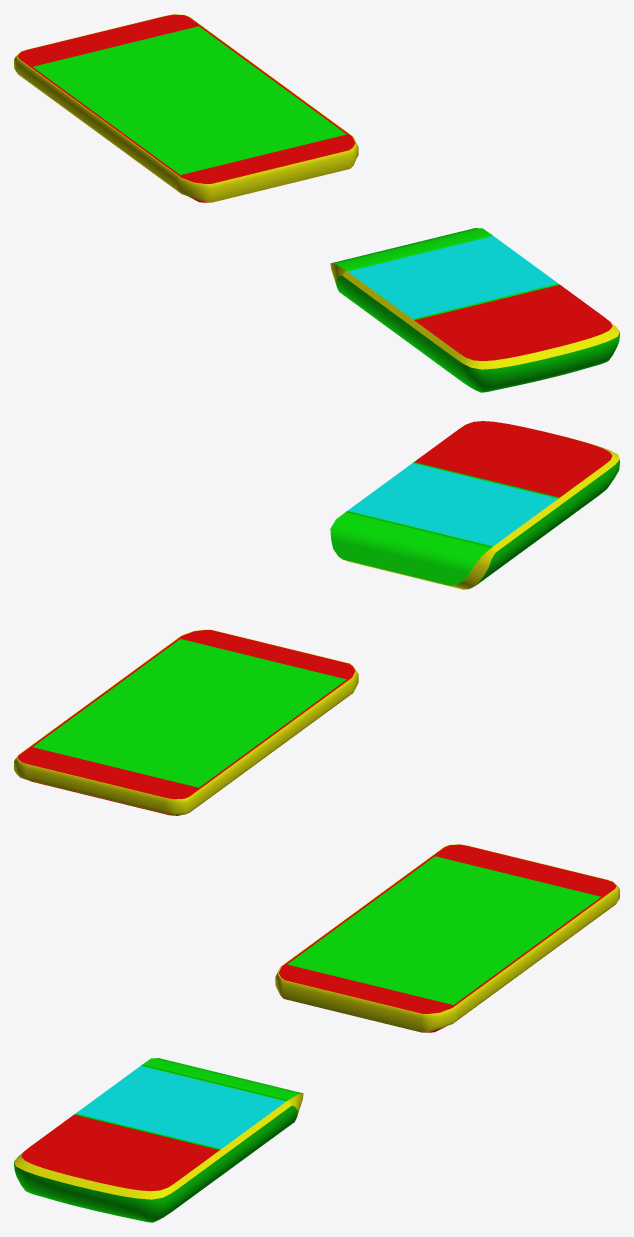
The model's file is thorkea_cellphones_grp.fbx.
The picture shows the model from 3 angles, top to bottom: view 1: azimuth 30°, elevation 25°; view 2: azimuth 150°, elevation 25°; view 3: azimuth 330°, elevation 25°; orthographic projection.
Visible parts, largest first — view 1: thorkea_cellphone_t_mobile, thorkea_cellphone_blackberry; view 2: thorkea_cellphone_t_mobile, thorkea_cellphone_blackberry; view 3: thorkea_cellphone_t_mobile, thorkea_cellphone_blackberry.
Part boxes in pixels (left/top/right/bottom): thorkea_cellphone_t_mobile: left=14, top=14, right=358, bottom=202; thorkea_cellphone_blackberry: left=330, top=228, right=619, bottom=392; thorkea_cellphone_t_mobile: left=14, top=629, right=358, bottom=815; thorkea_cellphone_blackberry: left=330, top=421, right=619, bottom=589; thorkea_cellphone_t_mobile: left=275, top=844, right=619, bottom=1032; thorkea_cellphone_blackberry: left=14, top=1058, right=303, bottom=1222.
Bounding box in the file's own units: 7.06 × 1.49 × 32.06.
